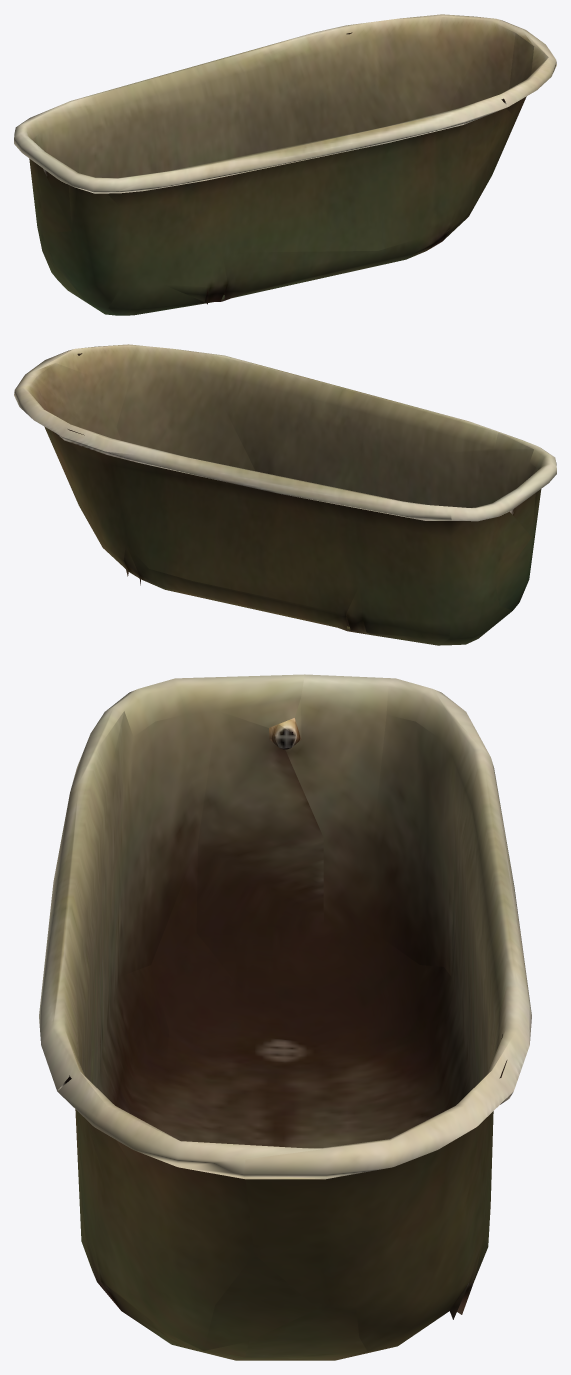
The model's file is bath3.glb.
3 views of the same model, one above another, from view 1: azimuth 30°, elevation 25°; view 2: azimuth 150°, elevation 25°; view 3: azimuth 270°, elevation 25° (orthographic). The views are drawn at different scales.
Visible parts, largest first — view 1: bath; view 2: bath; view 3: bath.
Boxes of the visible parts, x1=… form: bath: x1=14, y1=14, x2=556, y2=315; bath: x1=14, y1=344, x2=556, y2=645; bath: x1=39, y1=674, x2=531, y2=1360.
Size of the model in its own units: 2.57 by 0.8016 by 1.1.
Materials: 1 (1 with a texture image).
